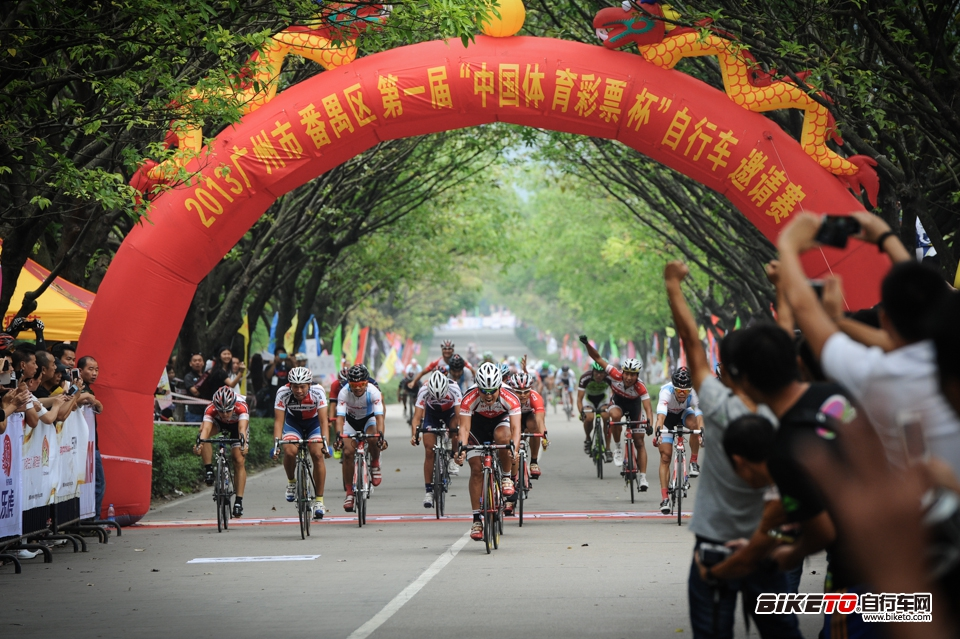handsup: (580, 330, 656, 500)
other: (455, 363, 537, 544), (271, 362, 329, 541), (410, 372, 472, 525), (332, 364, 390, 527), (198, 385, 255, 536)
